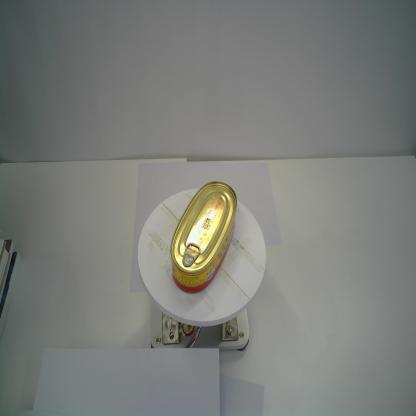Canned Food: (170, 179, 238, 295)
